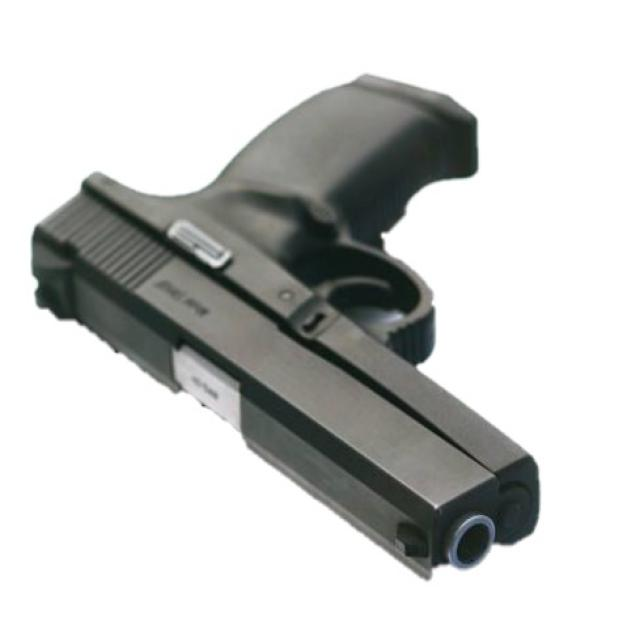pistol: (26, 73, 554, 595)
